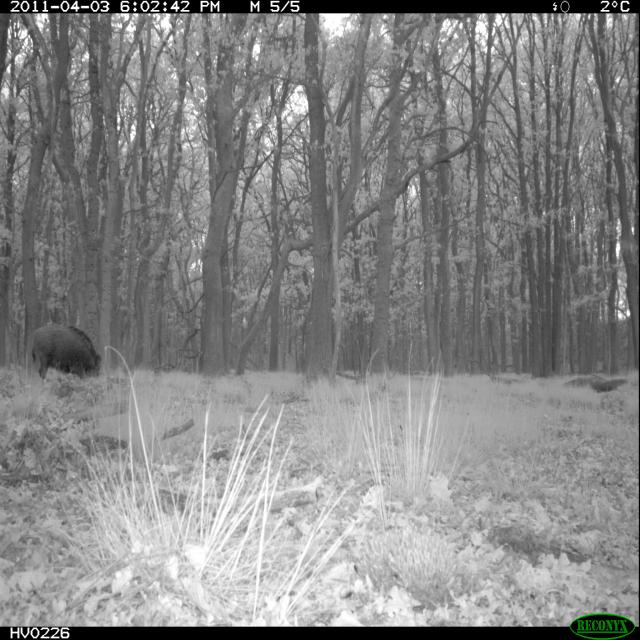boar: (27, 302, 112, 401)
